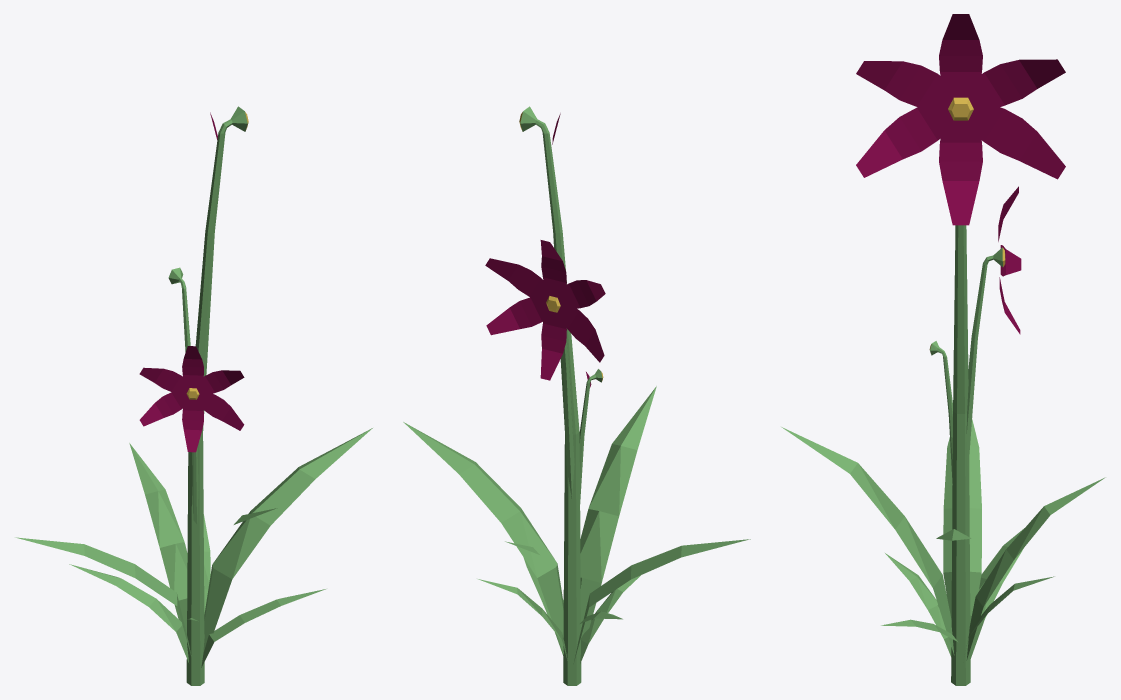
Rendered from flowers_vase_creativetrio.glb.
3 views of the same model, side by side, from view 1: azimuth 30°, elevation 25°; view 2: azimuth 150°, elevation 25°; view 3: azimuth 270°, elevation 25° (orthographic). The views are drawn at different scales.
Parts seen in each view (by area): view 1: Flowers; view 2: Flowers; view 3: Flowers.
Part boxes in pixels (x1,y1,x2,y2): Flowers: [15, 106, 372, 685]; Flowers: [403, 106, 750, 685]; Flowers: [781, 14, 1105, 685].
Size of the model in its own units: 0.2261 by 0.3962 by 0.167.
Materials: 1 (1 with a texture image).
